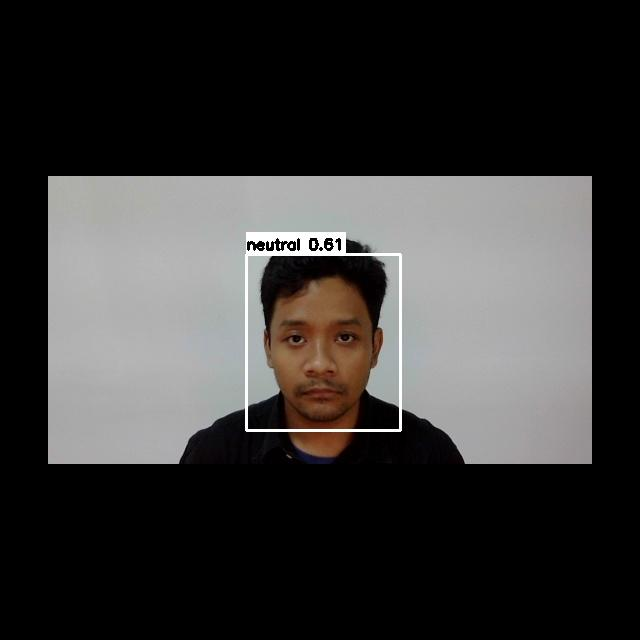Natural: (269, 311, 383, 417)
